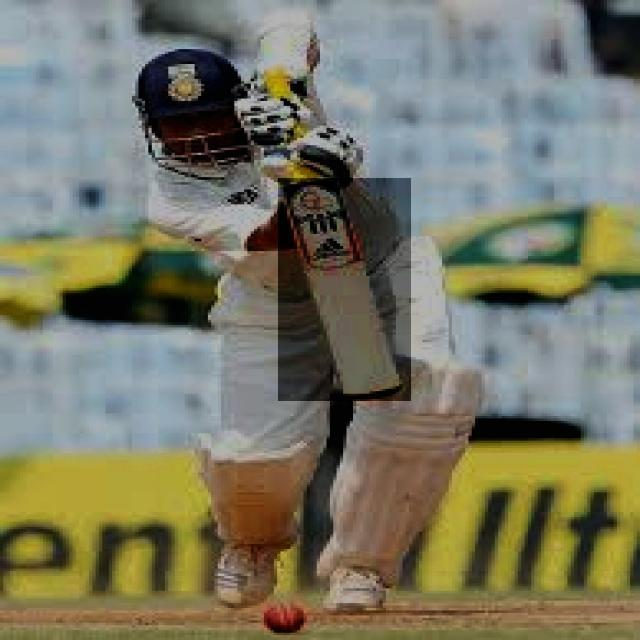bat: (283, 176, 411, 402)
toe: (335, 383, 417, 396)
